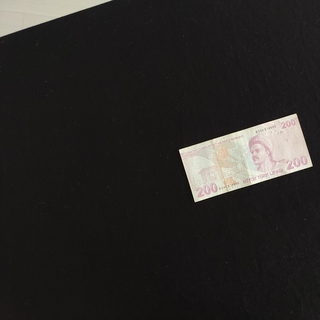200TLBack: (178, 113, 312, 202)
